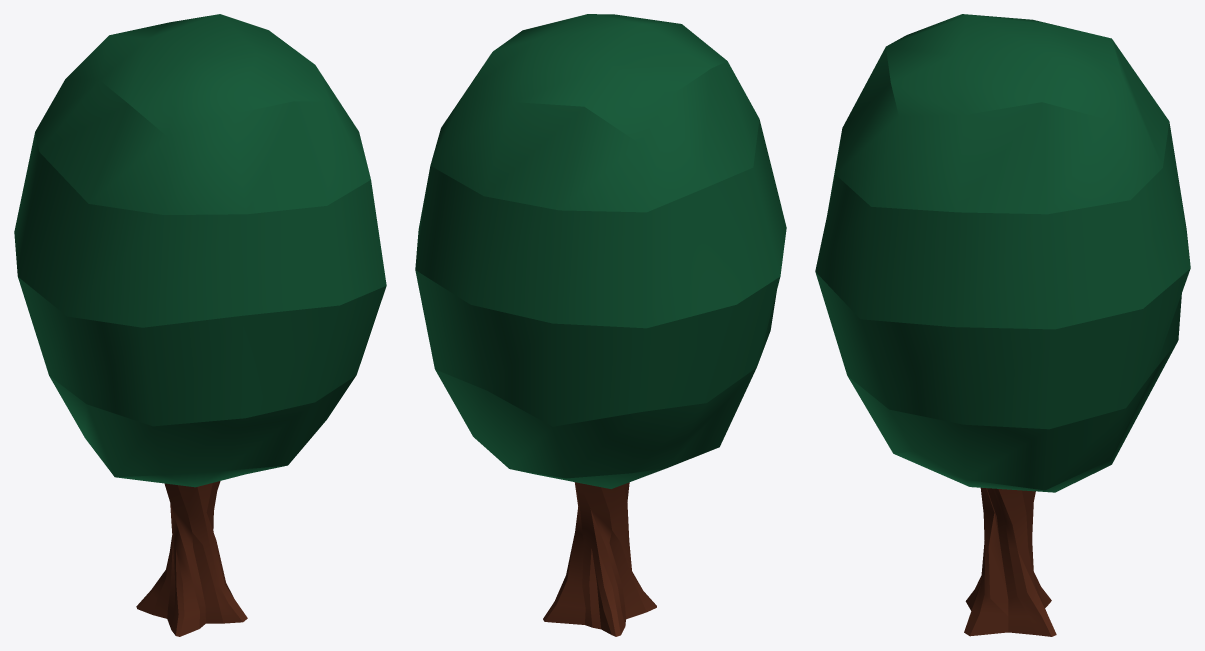
File: Tree_2_Low.fbx
3 views of the same model, side by side, from view 1: azimuth 30°, elevation 25°; view 2: azimuth 150°, elevation 25°; view 3: azimuth 270°, elevation 25° (orthographic). The views are drawn at different scales.
Parts seen in each view (by area): view 1: Tree_2_Low; view 2: Tree_2_Low; view 3: Tree_2_Low.
Boxes of the visible parts, x1,y1,x2,y2 form: Tree_2_Low: (14,14,386,636); Tree_2_Low: (415,14,786,636); Tree_2_Low: (815,14,1190,636).
Bounding box in the file's own units: 101 × 178 × 102.
